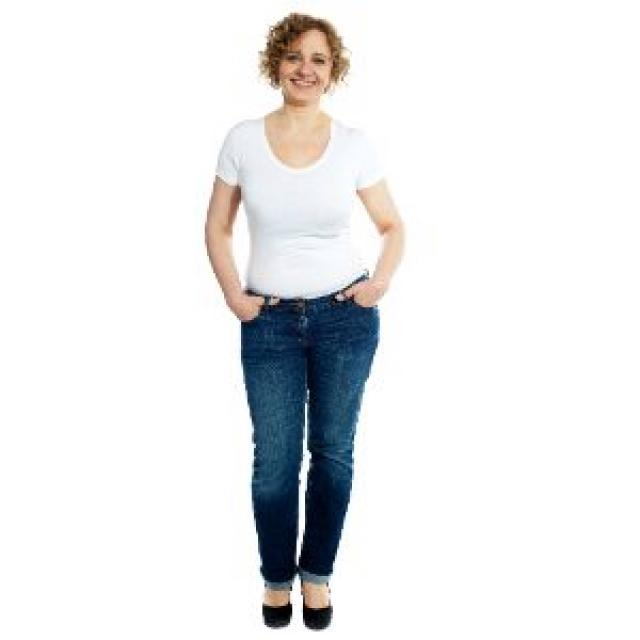adult: (190, 0, 437, 640)
